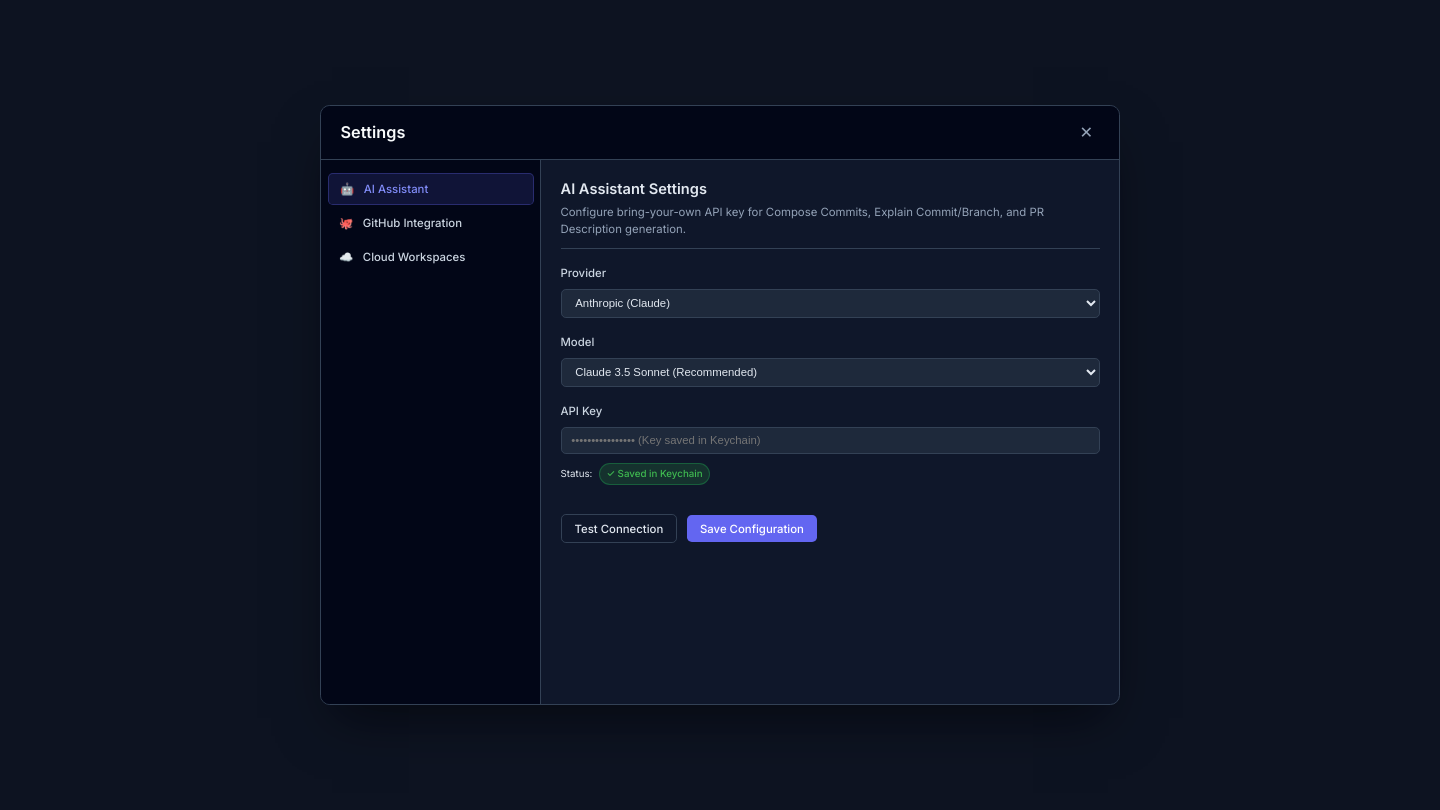
Test case: Settings Component › handles test connection click
Click the button "Test Connection" at (619, 529), box [560,514,677,543]
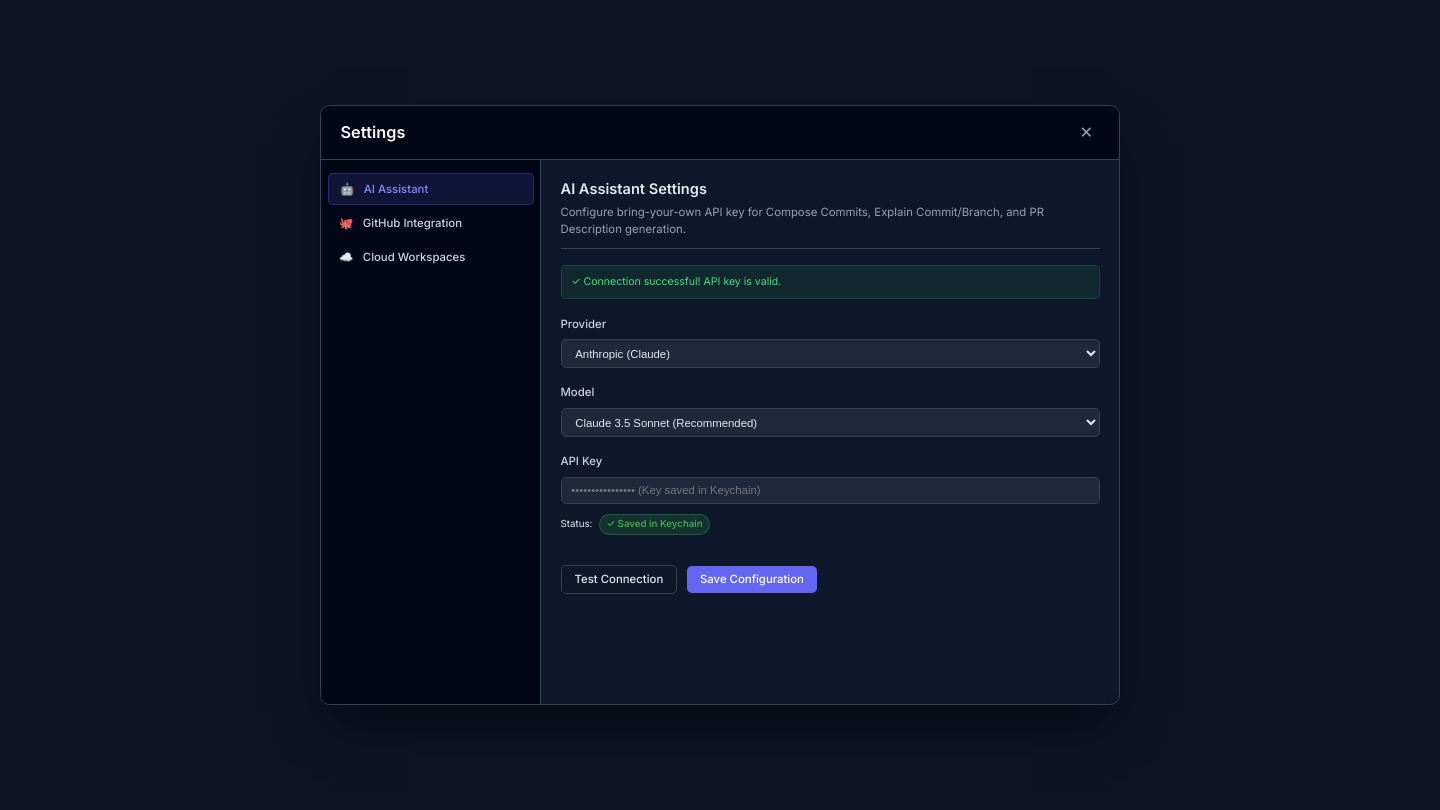
Now the text "✓ Connection successful! API key is valid." is shown, box [560,265,1100,299]
